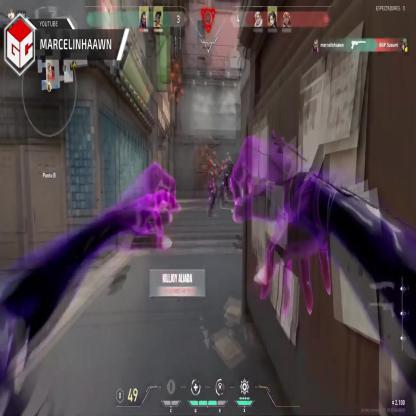enemy: (206, 154, 216, 218), (224, 149, 234, 195), (220, 162, 228, 204)
enemy_head: (209, 158, 213, 168), (226, 152, 230, 160), (222, 160, 225, 166)
